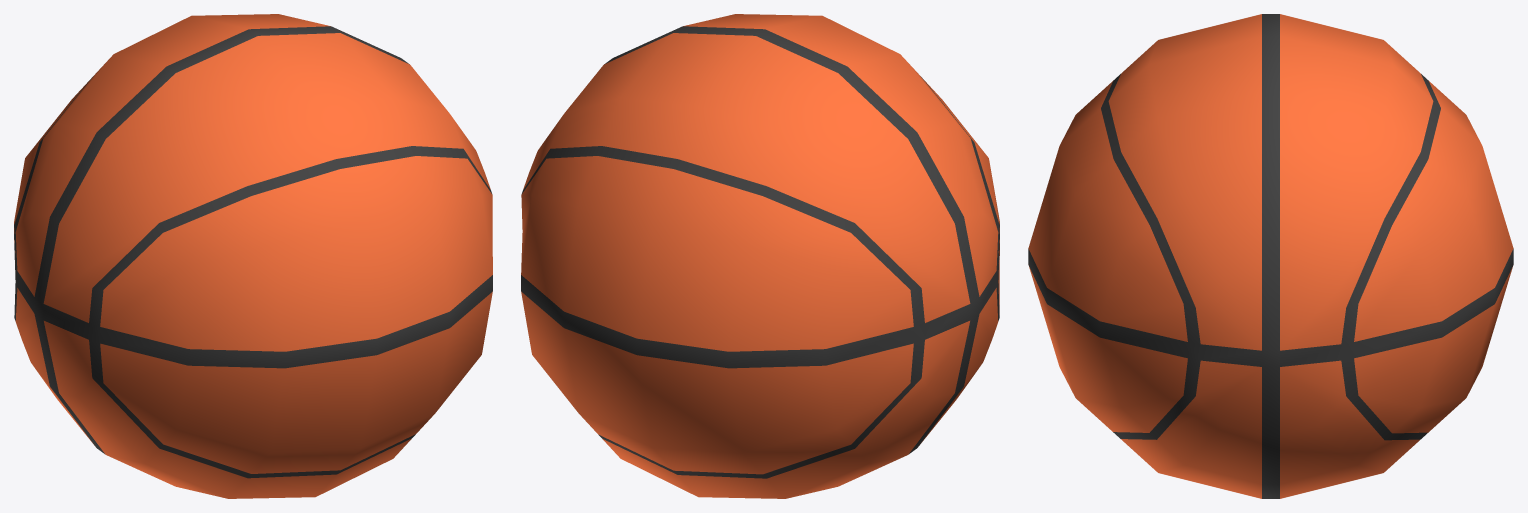
File: Basketball.fbx
The picture shows the model from 3 angles, left to right: view 1: azimuth 30°, elevation 25°; view 2: azimuth 150°, elevation 25°; view 3: azimuth 270°, elevation 25°; orthographic projection.
Visible parts, largest first — view 1: BasketBall; view 2: BasketBall; view 3: BasketBall.
Boxes of the visible parts, x1,y1,x2,y2 form: BasketBall: (14,14,492,498); BasketBall: (521,14,999,498); BasketBall: (1028,14,1513,498).
Bounding box in the file's own units: 39.73 × 39.71 × 39.71.
